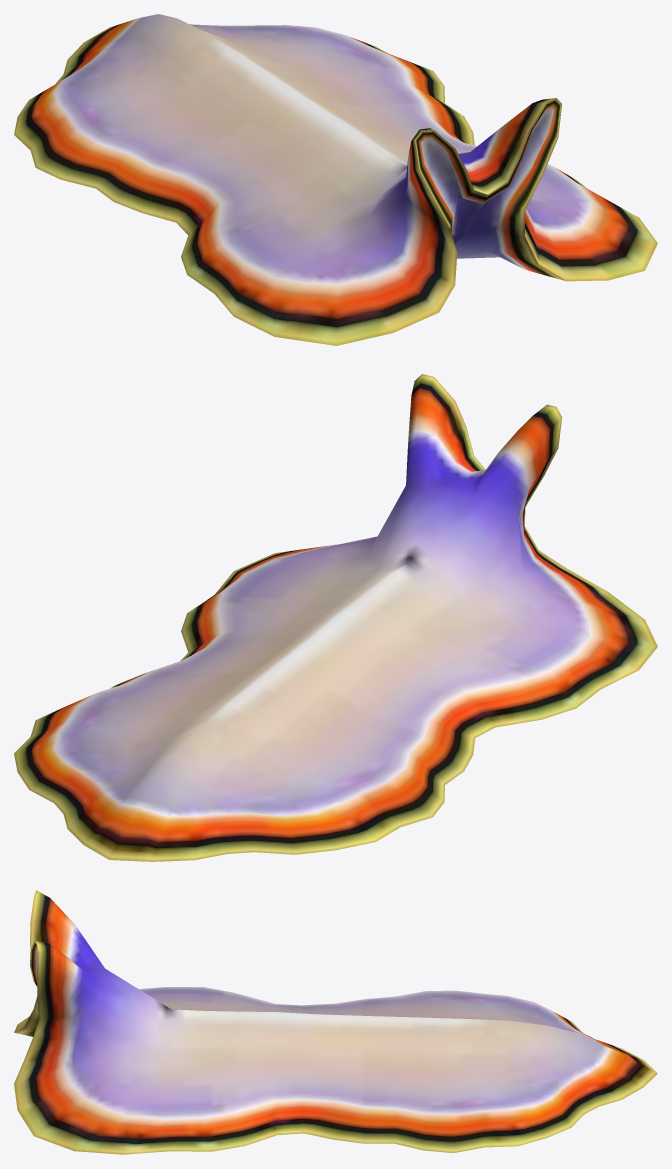
The model's file is flatworm.glb.
The picture shows the model from 3 angles, top to bottom: view 1: azimuth 30°, elevation 25°; view 2: azimuth 150°, elevation 25°; view 3: azimuth 270°, elevation 25°; orthographic projection. The views are drawn at different scales.
Size of the model in its own units: 1.35 by 0.6386 by 2.28.
Materials: 1 (1 with a texture image).
